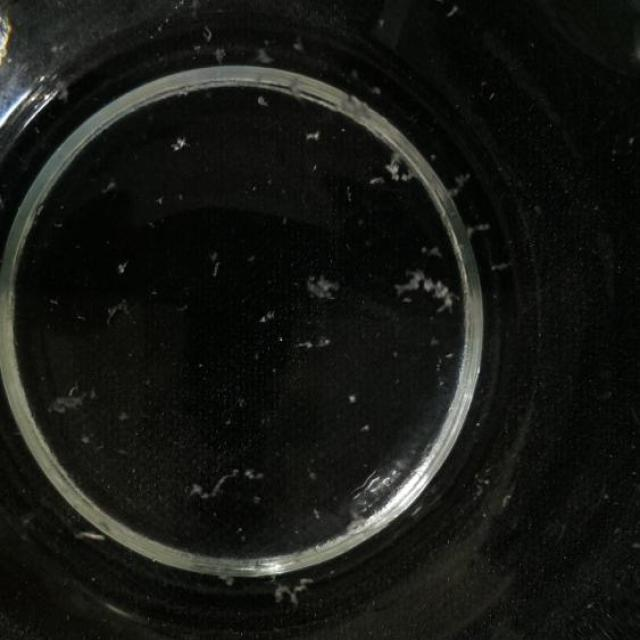fiber: (178, 446, 260, 511), (404, 265, 467, 329), (40, 368, 98, 418), (354, 154, 412, 190), (298, 256, 342, 298), (267, 576, 318, 612), (169, 121, 200, 166), (78, 500, 107, 544), (247, 90, 285, 120), (294, 112, 328, 145)
